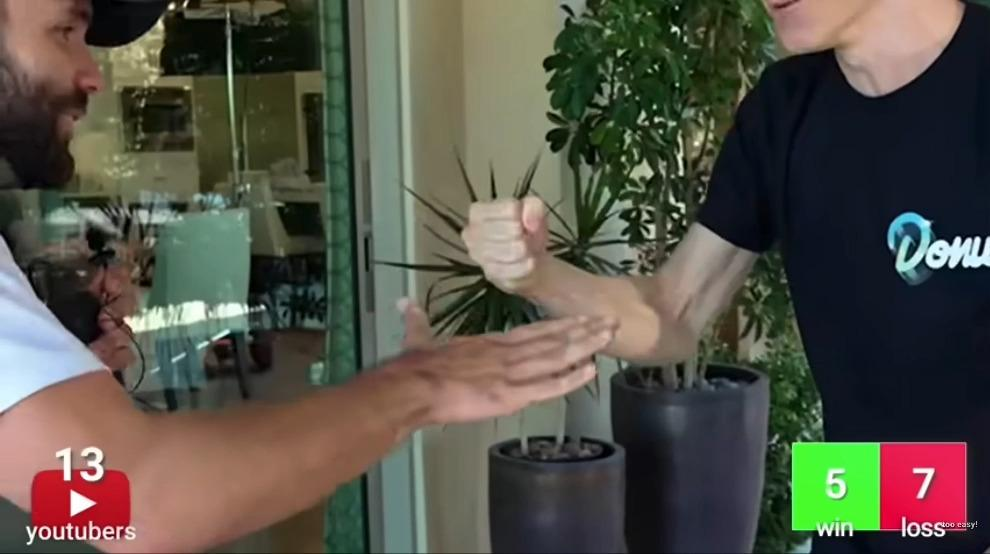Paper: (401, 298, 618, 425)
Rock: (459, 194, 552, 297)
